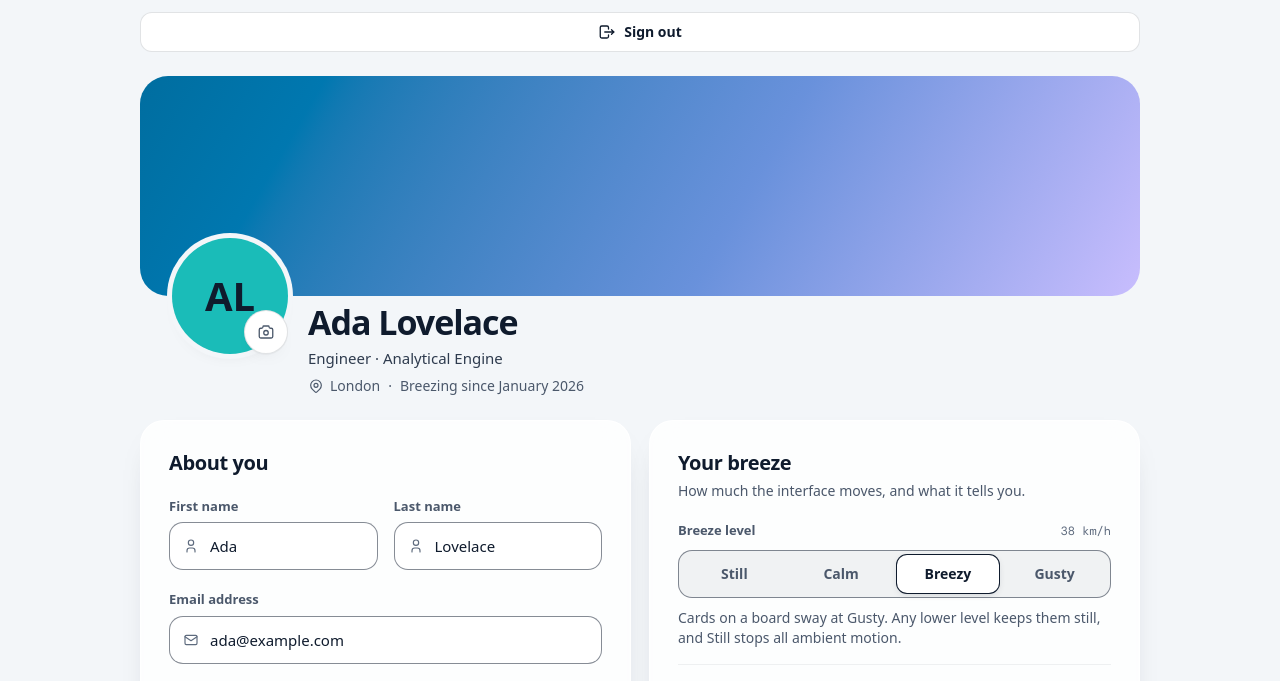
Scenario: Profile editing › updates the name above as the field is typed in
Replace the text in the field with placeholder "Enter first name" with "Augusta" at (273, 546), box [169,522,378,570]
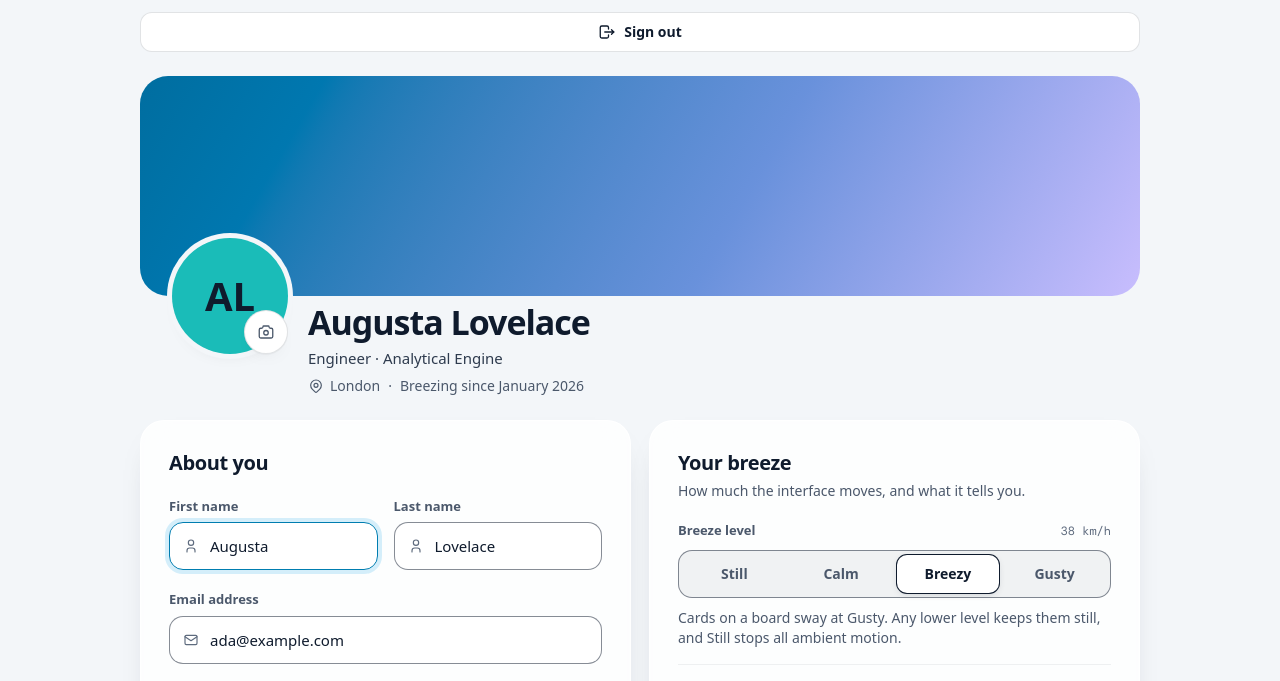
Now the heading "Augusta Lovelace" is shown, box [308,304,590,341]
